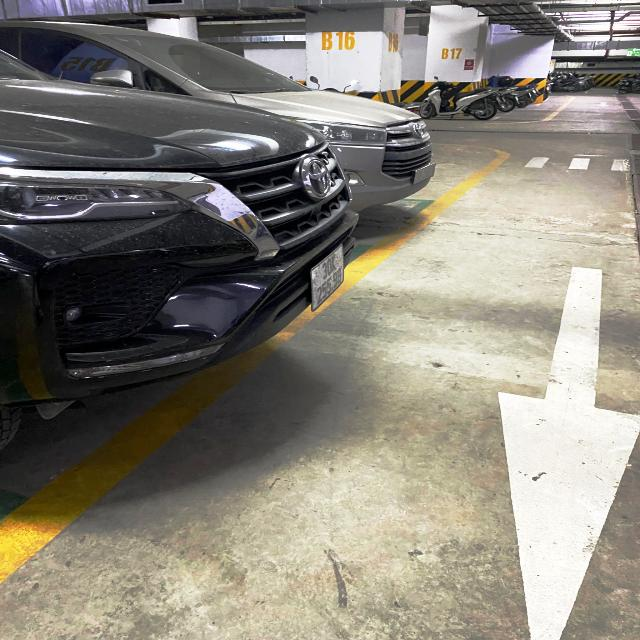license_plate: (307, 241, 350, 317)
